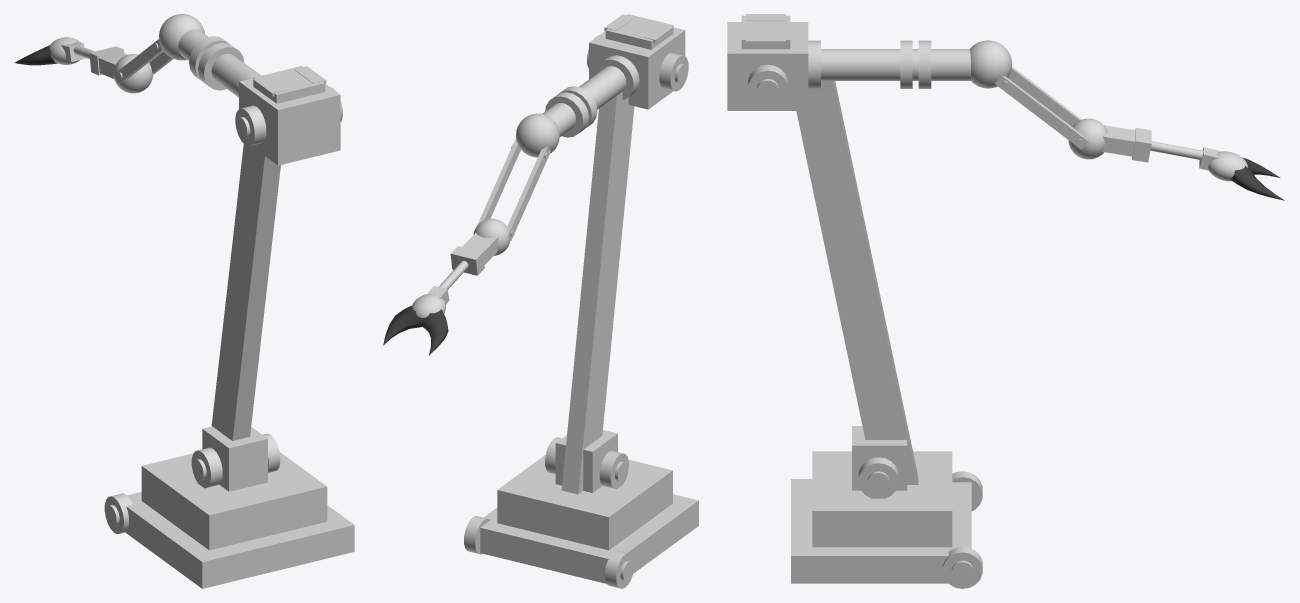
Rendered from machine.FBX.
3 renders of one model, left to right at view 1: azimuth 30°, elevation 25°; view 2: azimuth 150°, elevation 25°; view 3: azimuth 270°, elevation 25°, orthographic. The views are drawn at different scales.
Visible parts, largest first — view 1: Box001, Box003, Box013, Box002, Box007, Cylinder001, Box008, Sphere001, Cylinder012, Sphere002, Cylinder005, Cylinder017 (+5 smaller); view 2: Box001, Box003, Box013, Box002, Cylinder001, Box007, Sphere001, Box008, Box005, Box004, Cylinder003, Cylinder002 (+11 smaller); view 3: Box001, Box003, Box013, Box002, Cylinder001, Box007, Sphere001, Box004, Box008, Cylinder019, Sphere002, Cylinder010 (+4 smaller).
Part boxes in pixels (x1=…): Box001: x1=211, y1=144, x2=280, y2=440; Box003: x1=141, y1=452, x2=327, y2=550; Box013: x1=125, y1=492, x2=354, y2=588; Box002: x1=239, y1=78, x2=340, y2=165; Box007: x1=202, y1=426, x2=267, y2=491; Cylinder001: x1=178, y1=29, x2=260, y2=97; Box008: x1=253, y1=66, x2=325, y2=103; Sphere001: x1=159, y1=14, x2=204, y2=60; Cylinder012: x1=198, y1=42, x2=244, y2=90; Sphere002: x1=113, y1=54, x2=152, y2=93; Cylinder005: x1=235, y1=105, x2=266, y2=146; Cylinder017: x1=191, y1=447, x2=222, y2=488; Box001: x1=561, y1=91, x2=634, y2=494; Box003: x1=497, y1=455, x2=672, y2=550; Box013: x1=480, y1=494, x2=698, y2=583; Box002: x1=589, y1=27, x2=685, y2=109; Cylinder001: x1=542, y1=66, x2=626, y2=136; Box007: x1=555, y1=430, x2=617, y2=492; Sphere001: x1=516, y1=113, x2=559, y2=157; Box008: x1=605, y1=14, x2=673, y2=49; Box005: x1=507, y1=146, x2=550, y2=240; Box004: x1=477, y1=138, x2=520, y2=225; Cylinder003: x1=545, y1=92, x2=588, y2=137; Cylinder002: x1=595, y1=55, x2=639, y2=99; Box001: x1=796, y1=80, x2=918, y2=484; Box003: x1=812, y1=451, x2=952, y2=547; Box013: x1=791, y1=479, x2=971, y2=583; Box002: x1=727, y1=22, x2=808, y2=110; Cylinder001: x1=821, y1=49, x2=971, y2=80; Box007: x1=852, y1=426, x2=907, y2=490; Sphere001: x1=970, y1=40, x2=1012, y2=88; Box004: x1=994, y1=75, x2=1088, y2=149; Box008: x1=741, y1=15, x2=790, y2=49; Cylinder019: x1=858, y1=457, x2=898, y2=498; Sphere002: x1=1068, y1=118, x2=1107, y2=159; Cylinder010: x1=748, y1=64, x2=787, y2=106.
Size of the model in its own units: 21.47 by 61.71 by 59.93.
Materials: 1 (1 with a texture image).
